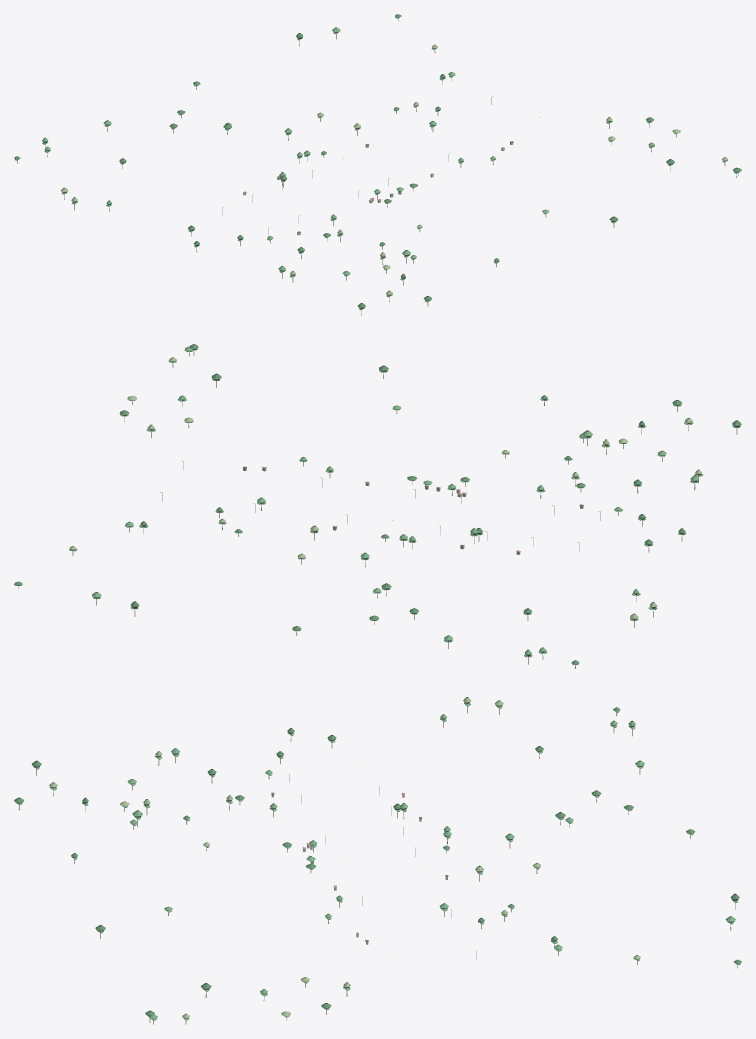
3 renders of one model, top to bottom at view 1: azimuth 30°, elevation 25°; view 2: azimuth 150°, elevation 25°; view 3: azimuth 270°, elevation 25°, orthographic. The views are drawn at different scales.
Parts seen in each view (by area): view 1: Mirpur 10 neighborhood furniture (approximate); view 2: Mirpur 10 neighborhood furniture (approximate); view 3: Mirpur 10 neighborhood furniture (approximate).
Part boxes in pixels (left/top/right/bottom): Mirpur 10 neighborhood furniture (approximate): left=14, top=14, right=741, bottom=315; Mirpur 10 neighborhood furniture (approximate): left=14, top=344, right=741, bottom=668; Mirpur 10 neighborhood furniture (approximate): left=14, top=697, right=741, bottom=1024.
Size of the model in its own units: 523 by 12.28 by 510.
